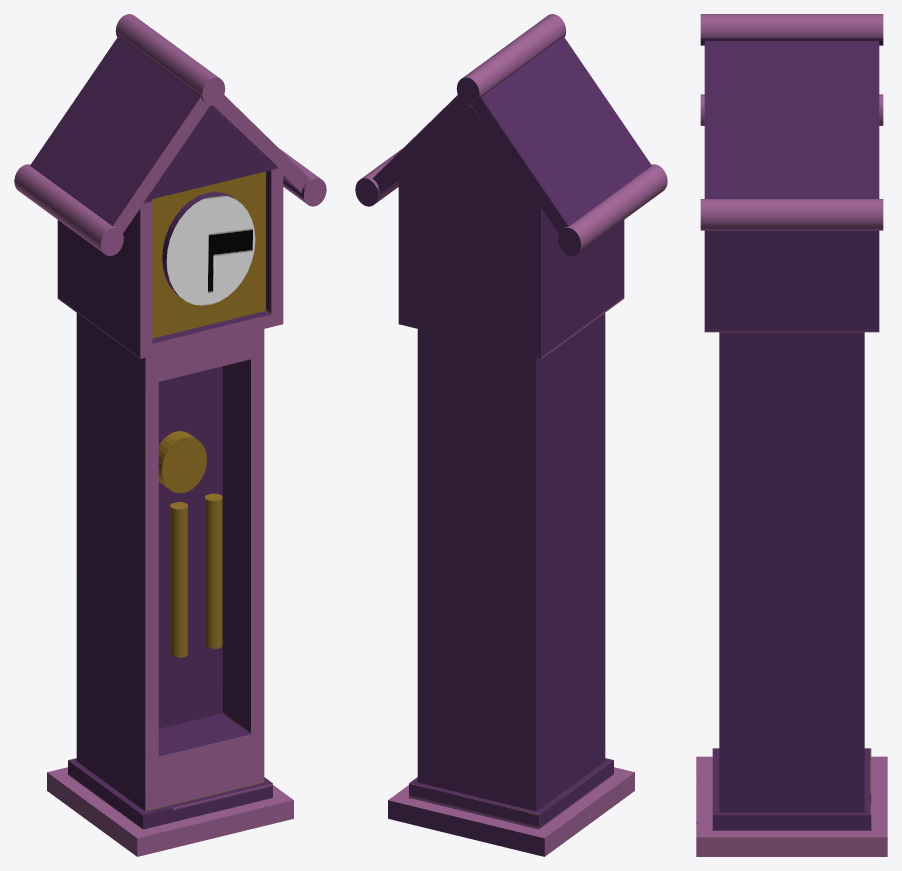
Rendered from Reloj.obj.
3 renders of one model, left to right at view 1: azimuth 30°, elevation 25°; view 2: azimuth 150°, elevation 25°; view 3: azimuth 270°, elevation 25°, orthographic. The views are drawn at different scales.
Parts seen in each view (by area): view 1: Cube.028_Cube.006; view 2: Cube.028_Cube.006; view 3: Cube.028_Cube.006.
Boxes of the visible parts, x1,y1,x2,y2 form: Cube.028_Cube.006: (14,14,326,856); Cube.028_Cube.006: (355,14,667,856); Cube.028_Cube.006: (696,14,887,856).
Bounding box in the file's own units: 7.32 × 23.53 × 5.08.
1 material, 1 textured.
